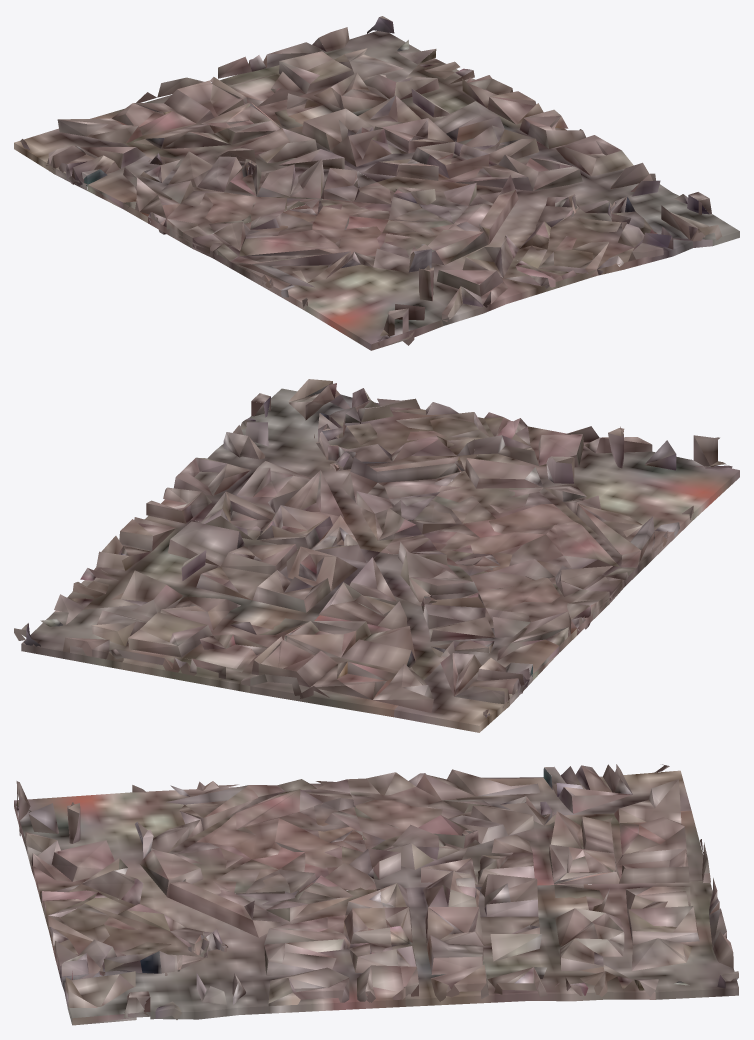
3 renders of one model, top to bottom at view 1: azimuth 30°, elevation 25°; view 2: azimuth 150°, elevation 25°; view 3: azimuth 270°, elevation 25°, orthographic. The views are drawn at different scales.
Parts seen in each view (by area): view 1: Mesh_0; view 2: Mesh_0; view 3: Mesh_0.
Part boxes in pixels (x1,y1,x2,y2): Mesh_0: [14, 16, 739, 350]; Mesh_0: [14, 379, 739, 732]; Mesh_0: [14, 764, 738, 1025].
Bounding box in the file's own units: 1065 × 119 × 1320.
2 materials, 2 textured.
